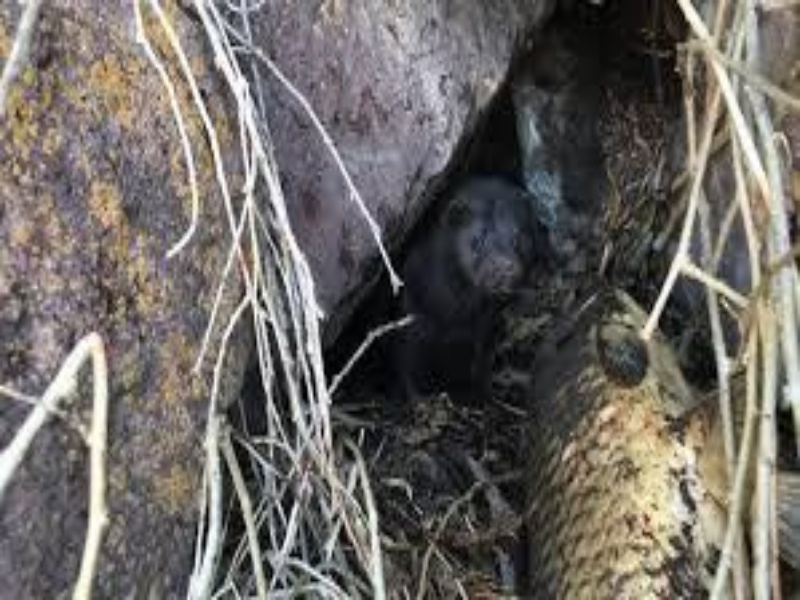minkish: (338, 180, 536, 383)
